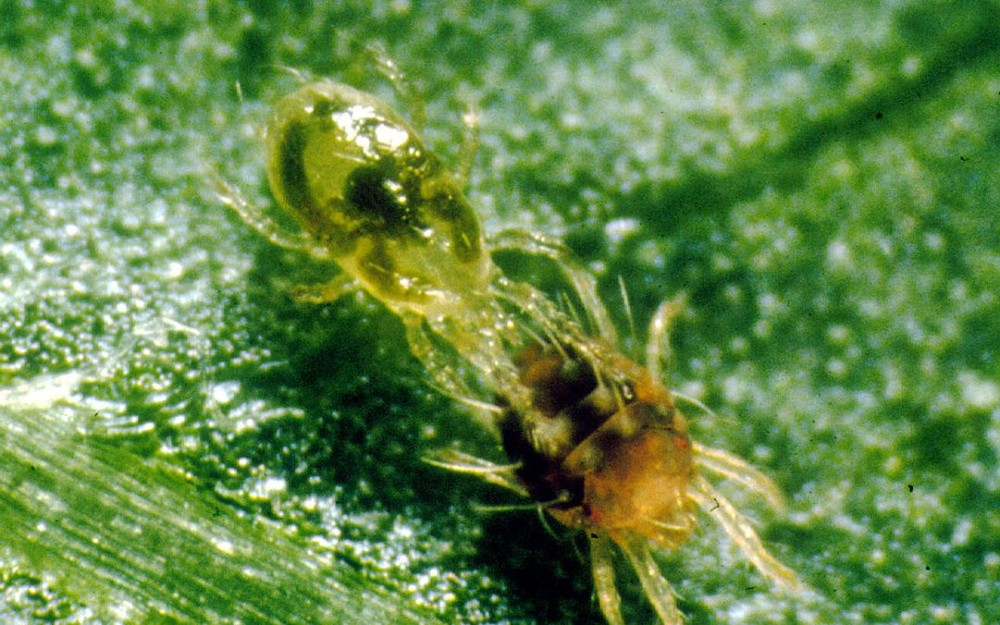Aracnido Rojo: (214, 45, 611, 424), (456, 278, 829, 624)
